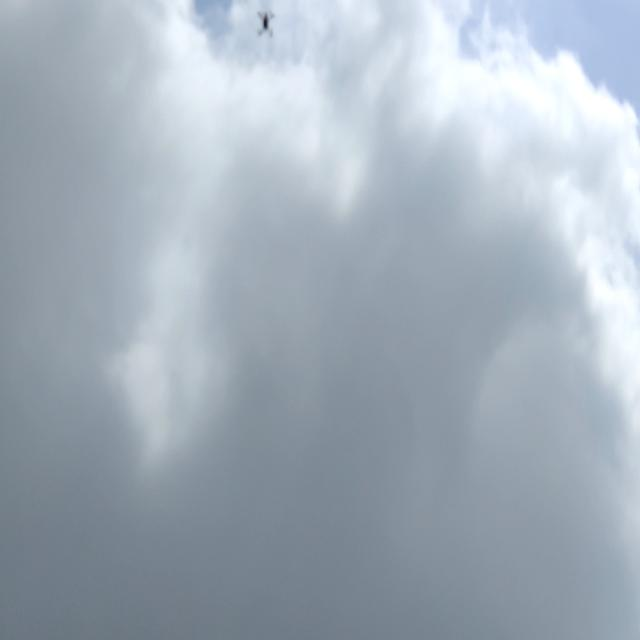drone: (251, 5, 281, 45)
